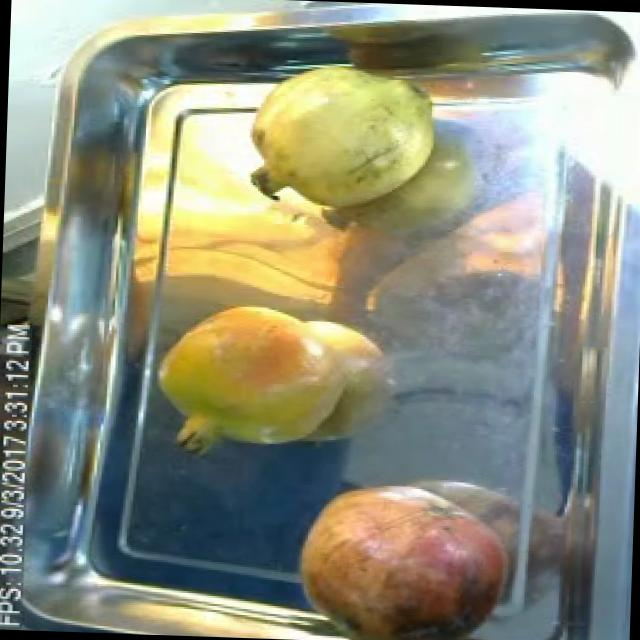fruit: (138, 286, 375, 488), (229, 46, 456, 230), (284, 487, 527, 640)
